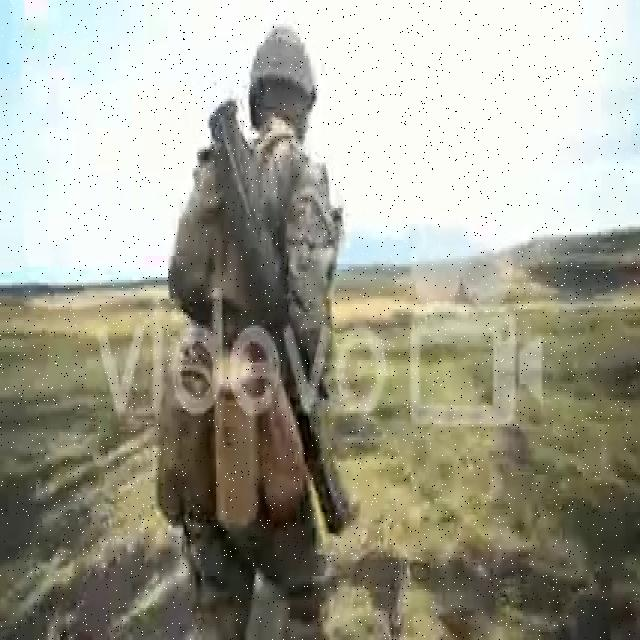bazooka: (206, 89, 357, 549)
